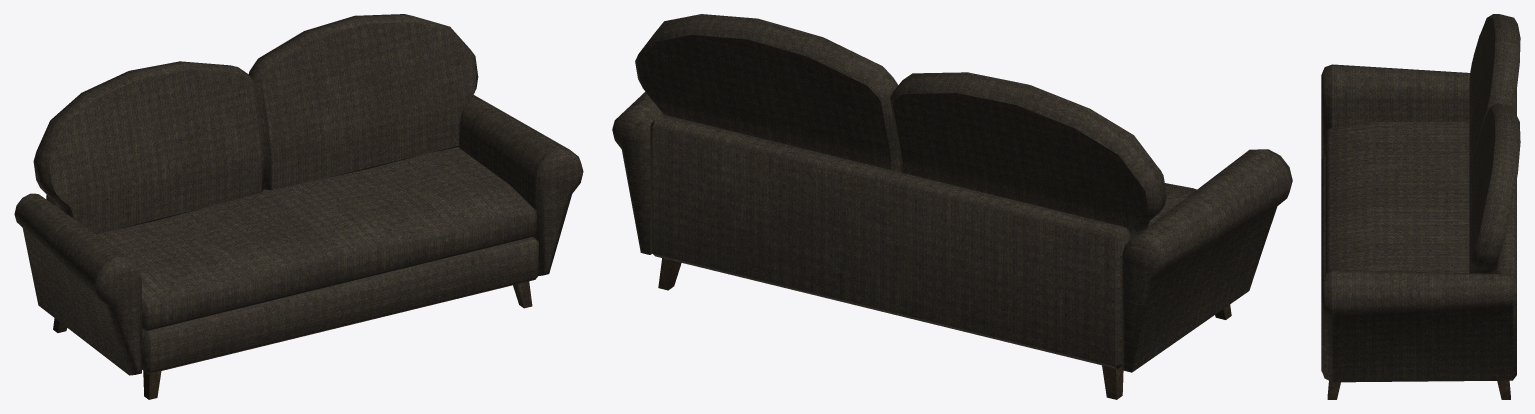
File: sofa_2_3.glb
3 renders of one model, left to right at view 1: azimuth 30°, elevation 25°; view 2: azimuth 150°, elevation 25°; view 3: azimuth 270°, elevation 25°, orthographic. The views are drawn at different scales.
Parts seen in each view (by area): view 1: sofa_2_3; view 2: sofa_2_3; view 3: sofa_2_3.
Part boxes in pixels (<box>): sofa_2_3: <box>14,14,583,399</box>; sofa_2_3: <box>612,14,1292,399</box>; sofa_2_3: <box>1321,14,1520,399</box>.
Size of the model in its own units: 2.47 by 1.17 by 0.9157.
2 materials, 2 textured.
